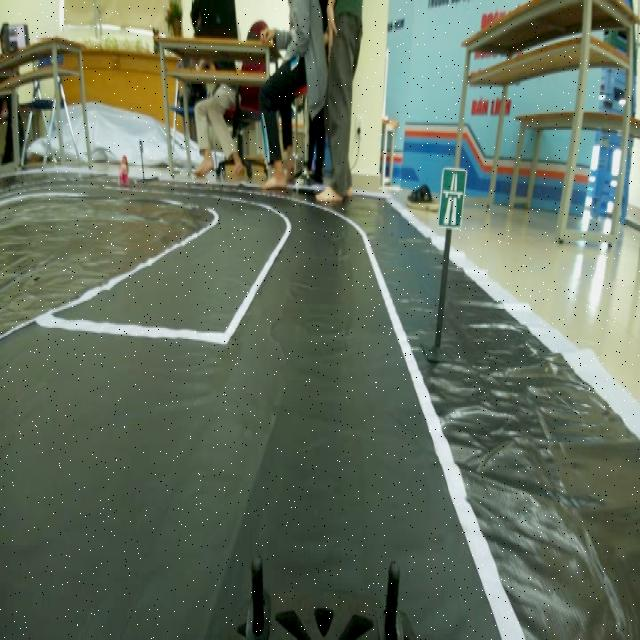highway_entry: (439, 162, 469, 234)
